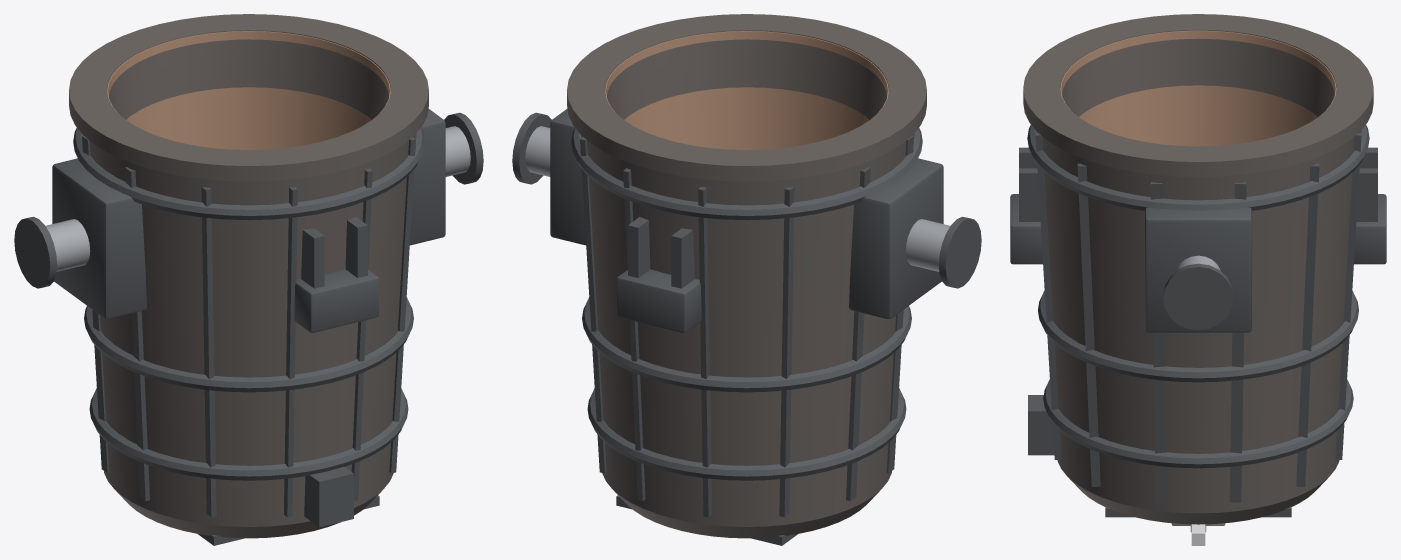
Rendered from ladle.glb.
3 views of the same model, side by side, from view 1: azimuth 30°, elevation 25°; view 2: azimuth 150°, elevation 25°; view 3: azimuth 270°, elevation 25° (orthographic). The views are drawn at different scales.
Visible parts, largest first — view 1: Ladle_geo; view 2: Ladle_geo; view 3: Ladle_geo.
Part boxes in pixels (box(x1,y1,x2,y2)): Ladle_geo: box(14, 14, 483, 545); Ladle_geo: box(512, 14, 981, 545); Ladle_geo: box(1010, 14, 1386, 545).
Bounding box in the file's own units: 5 × 4.75 × 3.87.
